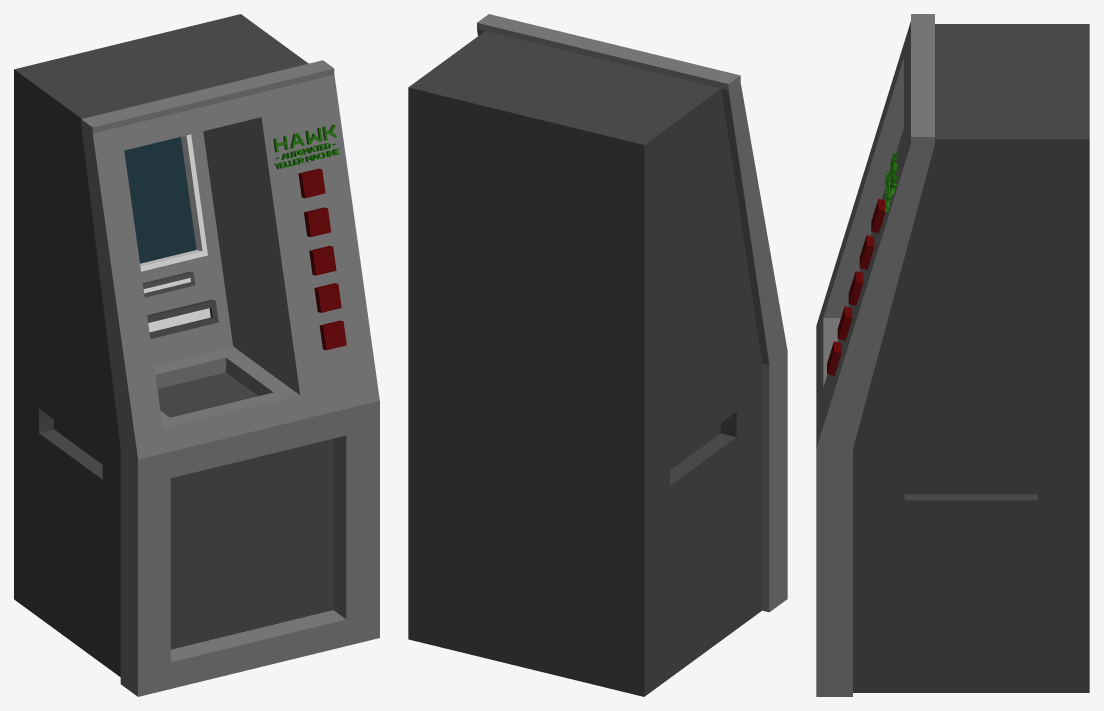
File: ATM.fbx
The picture shows the model from 3 angles, left to right: view 1: azimuth 30°, elevation 25°; view 2: azimuth 150°, elevation 25°; view 3: azimuth 270°, elevation 25°; orthographic projection. The views are drawn at different scales.
Parts seen in each view (by area): view 1: Grey, Dark Grey, Screen, Screen Frame, Rec 2, Sign Main, Rec 1, But 2, But 3, But 4, But 5, But 1; view 2: Dark Grey, Grey; view 3: Dark Grey, Grey, Sign Main.
Part boxes in pixels (x1=…): Grey: x1=81, y1=60, x2=379, y2=696; Dark Grey: x1=14, y1=14, x2=333, y2=676; Screen: x1=124, y1=137, x2=196, y2=263; Screen Frame: x1=140, y1=134, x2=207, y2=271; Rec 2: x1=147, y1=299, x2=218, y2=338; Sign Main: x1=273, y1=124, x2=340, y2=169; Rec 1: x1=142, y1=271, x2=195, y2=297; But 2: x1=304, y1=207, x2=331, y2=236; But 3: x1=309, y1=246, x2=336, y2=275; But 4: x1=314, y1=283, x2=341, y2=312; But 5: x1=319, y1=320, x2=346, y2=350; But 1: x1=298, y1=168, x2=325, y2=198; Dark Grey: x1=408, y1=31, x2=762, y2=696; Grey: x1=477, y1=14, x2=787, y2=612; Dark Grey: x1=853, y1=24, x2=1089, y2=692; Grey: x1=816, y1=14, x2=934, y2=696; Sign Main: x1=885, y1=153, x2=897, y2=212.
Bounding box in the file's own units: 61.05 × 129 × 57.27.
